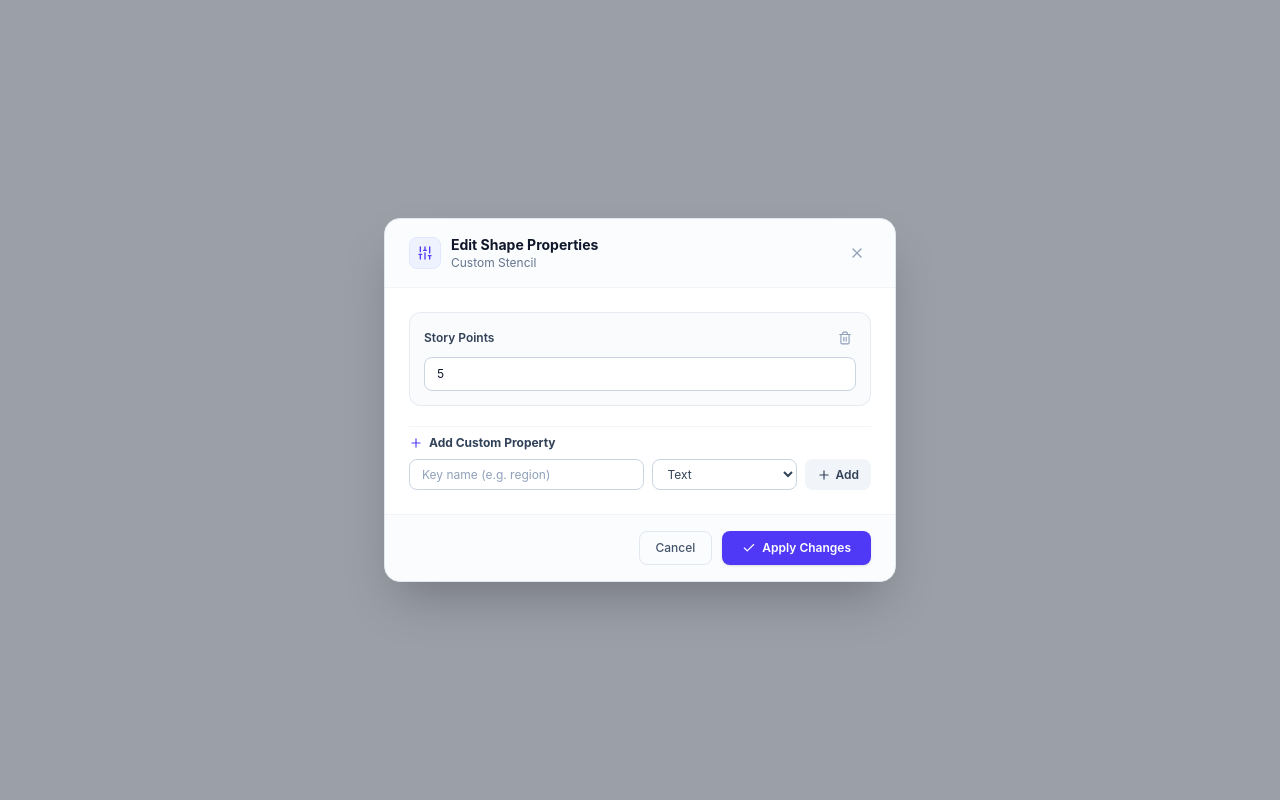
Test: EditShapePropertiesModal Component › validates numeric fields and rejects non-numeric input
Replace the text in the number field labelled "Story Points" with "invalid-number" at (640, 374), box [424,357,856,391]
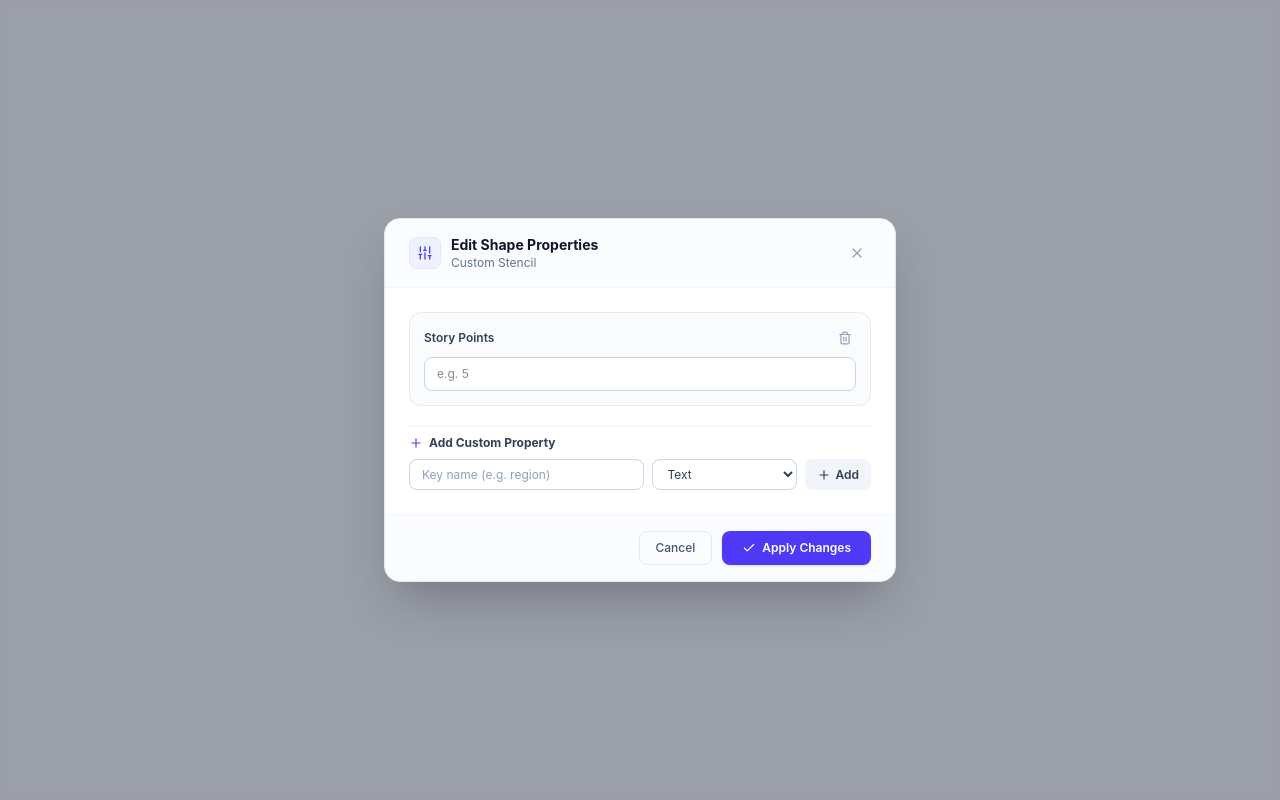
Click the button "Apply Changes" at (797, 548), box [722,531,871,565]
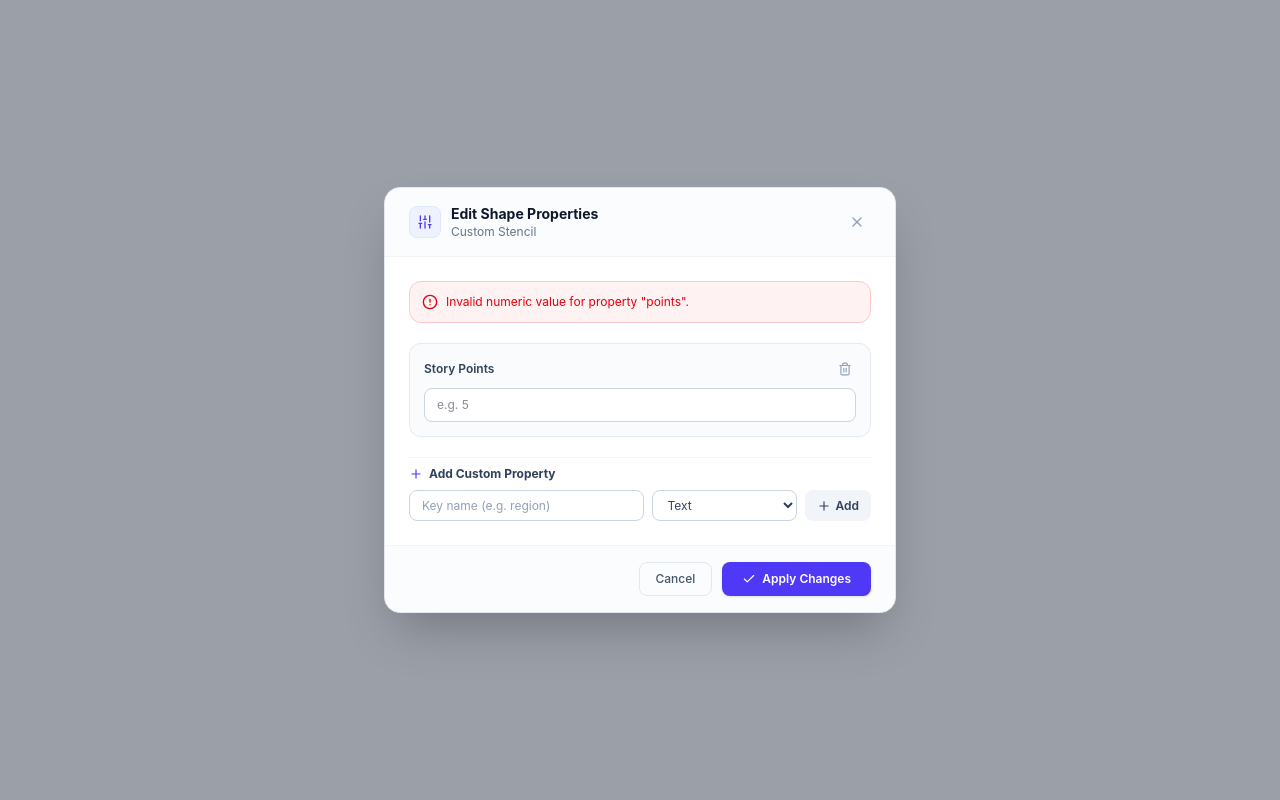
expect the text "Invalid numeric value for property \"points\"." is shown: met, box [446,294,689,310]
